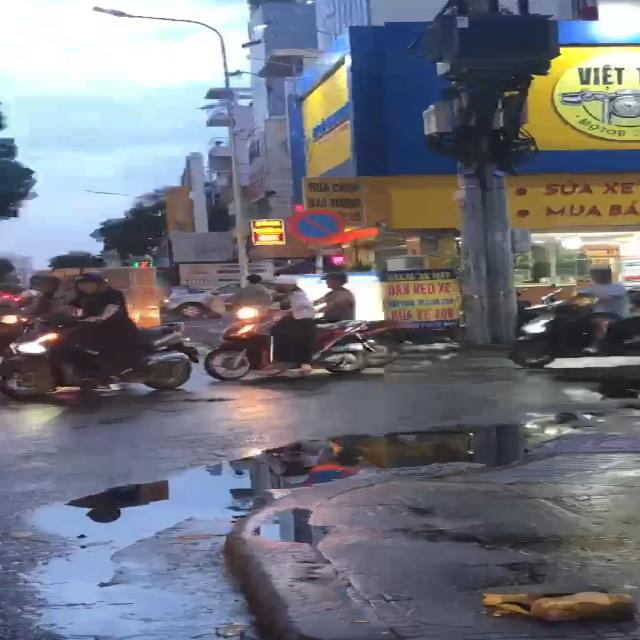Bien bao cam do xe: (282, 206, 352, 244)
